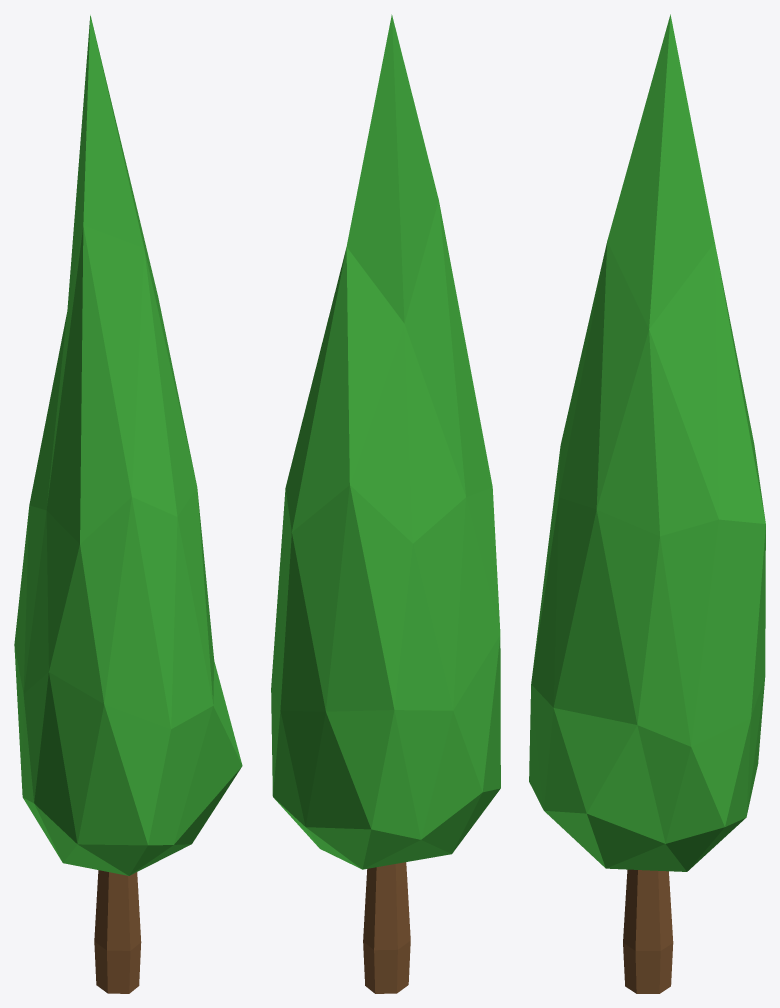
Rendered from Tree_01.fbx.
The picture shows the model from 3 angles, left to right: view 1: azimuth 30°, elevation 25°; view 2: azimuth 150°, elevation 25°; view 3: azimuth 270°, elevation 25°; orthographic projection. The views are drawn at different scales.
Visible parts, largest first — view 1: Icosphere, Tree_01; view 2: Icosphere, Tree_01; view 3: Icosphere, Tree_01.
Boxes of the visible parts, x1,y1,x2,y2 form: Icosphere: (14,15,242,875); Tree_01: (94,870,141,993); Icosphere: (271,14,500,869); Tree_01: (363,862,410,993); Icosphere: (529,14,765,871); Tree_01: (623,869,673,993).
Size of the model in its own units: 274 by 1375 by 306.
